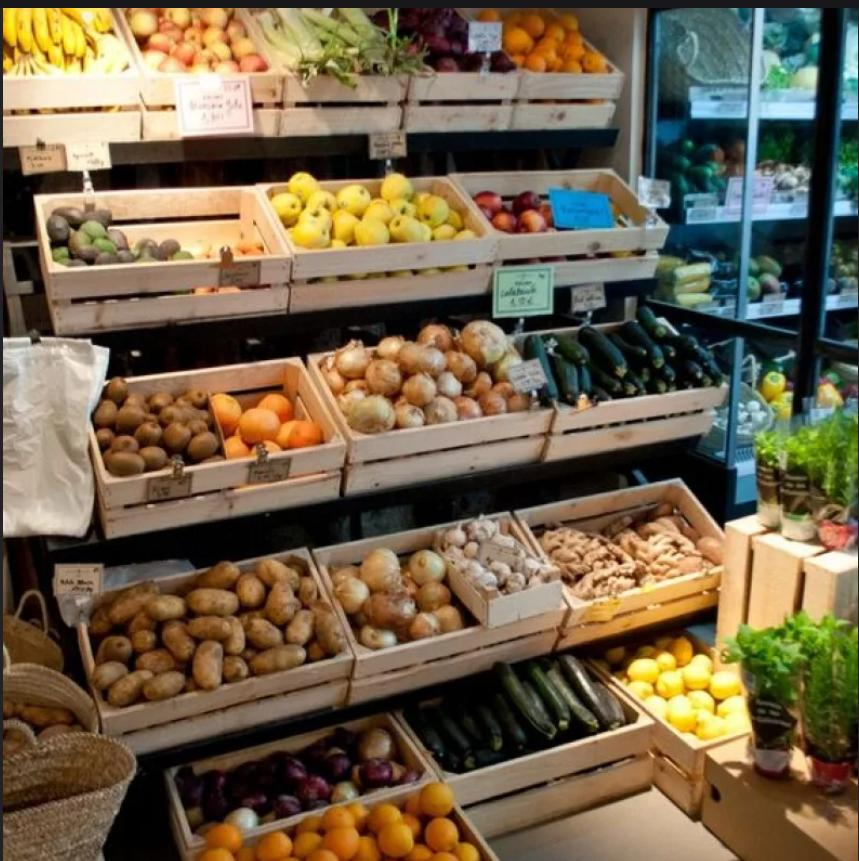banana: (0, 7, 134, 78)
cucumber: (537, 307, 722, 406)
garlic: (441, 516, 556, 588)
ginger: (535, 520, 710, 598)
lemon: (615, 638, 751, 750)
mandarin: (190, 784, 480, 861), (501, 4, 630, 107)
onion: (178, 726, 422, 836), (326, 320, 536, 438), (328, 546, 466, 644)
orange: (215, 364, 327, 495)
pomegranate: (479, 182, 558, 232)
potato: (87, 553, 348, 694)
